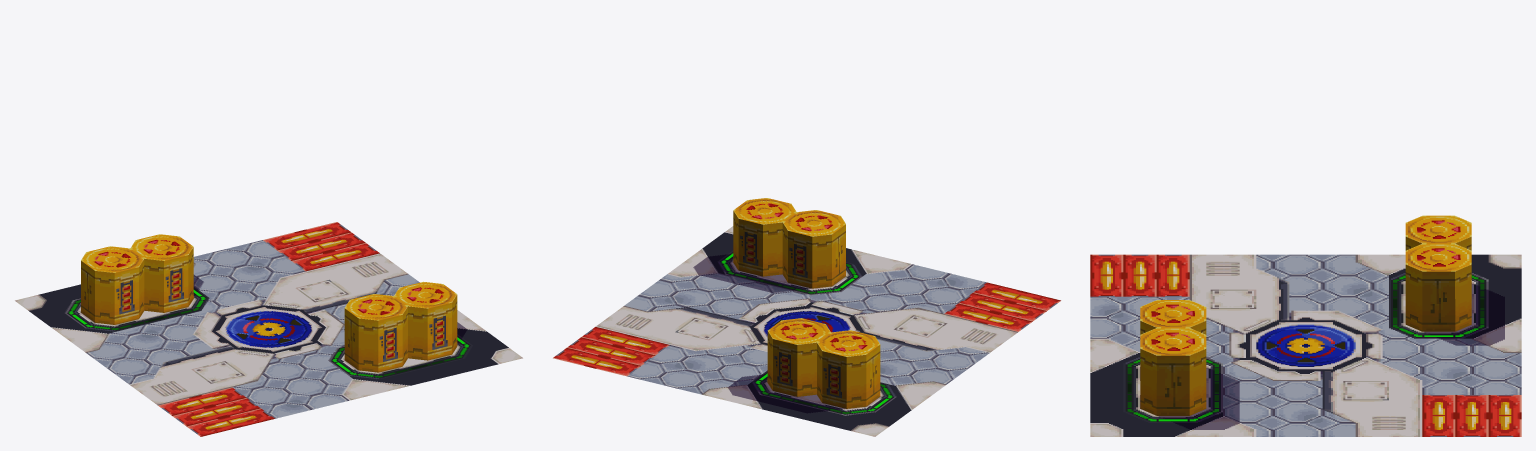
The model's file is tails_lab.glb.
3 renders of one model, left to right at view 1: azimuth 30°, elevation 25°; view 2: azimuth 150°, elevation 25°; view 3: azimuth 270°, elevation 25°, orthographic. The views are drawn at different scales.
Visible parts, largest first — view 1: TL_Ground-col, TL_Blocks-col; view 2: TL_Ground-col, TL_Blocks-col; view 3: TL_Ground-col, TL_Blocks-col.
Boxes of the visible parts, box(x1,y1,x2,y2) form: TL_Ground-col: box(15, 222, 522, 436); TL_Blocks-col: box(81, 234, 457, 372); TL_Ground-col: box(553, 226, 1060, 436); TL_Blocks-col: box(733, 198, 880, 408); TL_Ground-col: box(1090, 254, 1521, 436); TL_Blocks-col: box(1140, 215, 1471, 415).
Bounding box in the file's own units: 3.25 × 2 × 3.25.
Materials: 2 (1 with a texture image).
